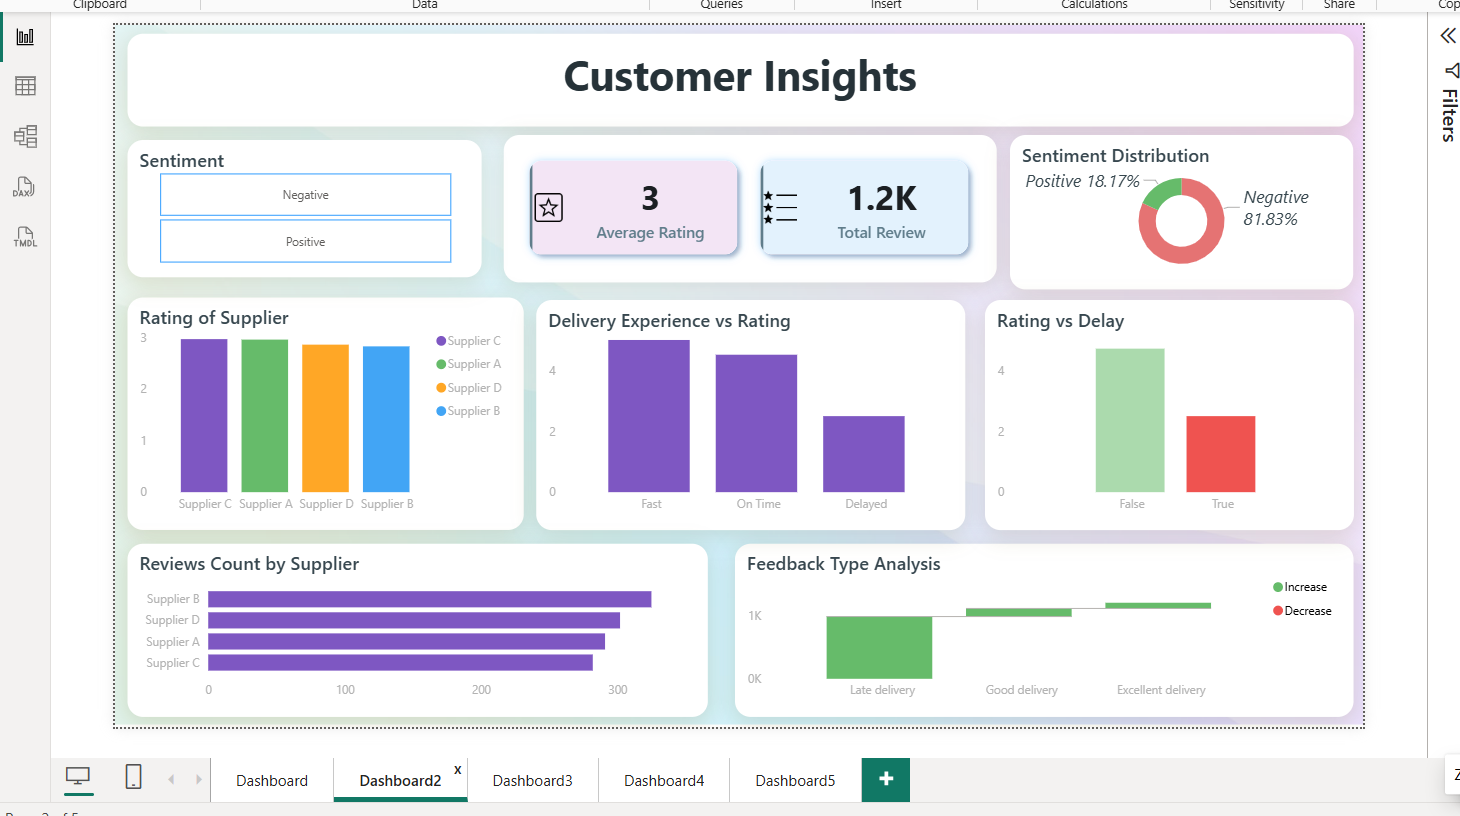

The dashboard page shown, as its layout file describes it:
{"tool":"powerbi","page":{"name":"Dashboard2","canvas":[1280,720],"ordinal":1},"visuals":[{"type":"textbox","box":[12.8,9,1257.7,94.9],"z":0},{"type":"cardVisual","fields":{"Data":["Reviews.Avg Rating","CountNonNull(Reviews.customer_id)"]},"box":[399.3,112.2,505.5,150.8],"z":1000},{"type":"donutChart","title":"Sentiment Distribution ","fields":{"Category":["Reviews.sentiment"],"Y":["CountNonNull(Reviews.review_id)"]},"box":[918.1,112.2,352.3,158],"z":2000},{"type":"columnChart","title":" Rating of Supplier","fields":{"Category":["Supply_Chain.supplier"],"Series":["Supply_Chain.supplier"],"Y":["Avg(Reviews.rating)"]},"box":[12.8,279.5,406.4,238.5],"z":3000},{"type":"waterfallChart","title":"Feedback Type Analysis","fields":{"Category":["Reviews.review_text"],"Y":["CountNonNull(Reviews.review_id)"]},"box":[635.9,531.9,634.7,177.3],"z":4000},{"type":"columnChart","title":"Delivery Experience vs Rating","fields":{"Category":["Reviews.delivery_experience"],"Y":["Avg(Reviews.rating)"]},"box":[432.1,282.1,439.7,235.9],"z":5000},{"type":"barChart","title":"Reviews Count by Supplier","fields":{"Category":["Suppliers.supplier_name"],"Y":["CountNonNull(Reviews.review_id)"]},"box":[12.2,531.9,595.5,177.3],"z":6000},{"type":"columnChart","title":"Rating vs Delay","fields":{"Category":["Supply_Chain.is_delayed"],"Y":["Avg(Reviews.rating)"]},"box":[892.3,282.1,378.2,235.9],"z":7000},{"type":"slicer","title":"Sentiment","fields":{"Values":["Reviews.sentiment"]},"box":[13.3,118.2,363.1,141.2],"z":8000}]}

Visuals, with their boxes on the page's 1280x720 design canvas (x1, y1, x2, y2). These are canvas units, not pixel positions in the 1460x816 screenshot, which may show the page scaled, cropped or inside an application window:
textbox: locate(13, 9, 1270, 104)
cardVisual - Reviews.Avg Rating x CountNonNull(Reviews.customer_id): locate(399, 112, 905, 263)
"Sentiment Distribution " donutChart: locate(918, 112, 1270, 270)
" Rating of Supplier" columnChart: locate(13, 280, 419, 518)
"Feedback Type Analysis" waterfallChart: locate(636, 532, 1271, 709)
"Delivery Experience vs Rating" columnChart: locate(432, 282, 872, 518)
"Reviews Count by Supplier" barChart: locate(12, 532, 608, 709)
"Rating vs Delay" columnChart: locate(892, 282, 1270, 518)
"Sentiment" slicer: locate(13, 118, 376, 259)
